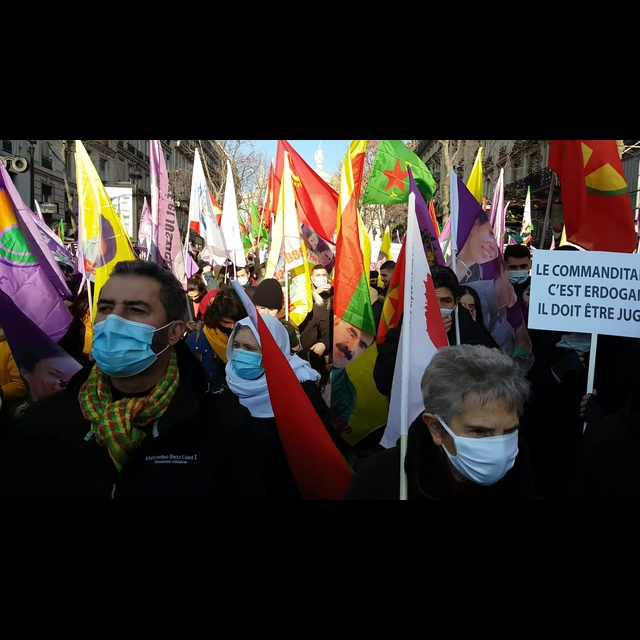APO: (331, 314, 372, 371)
